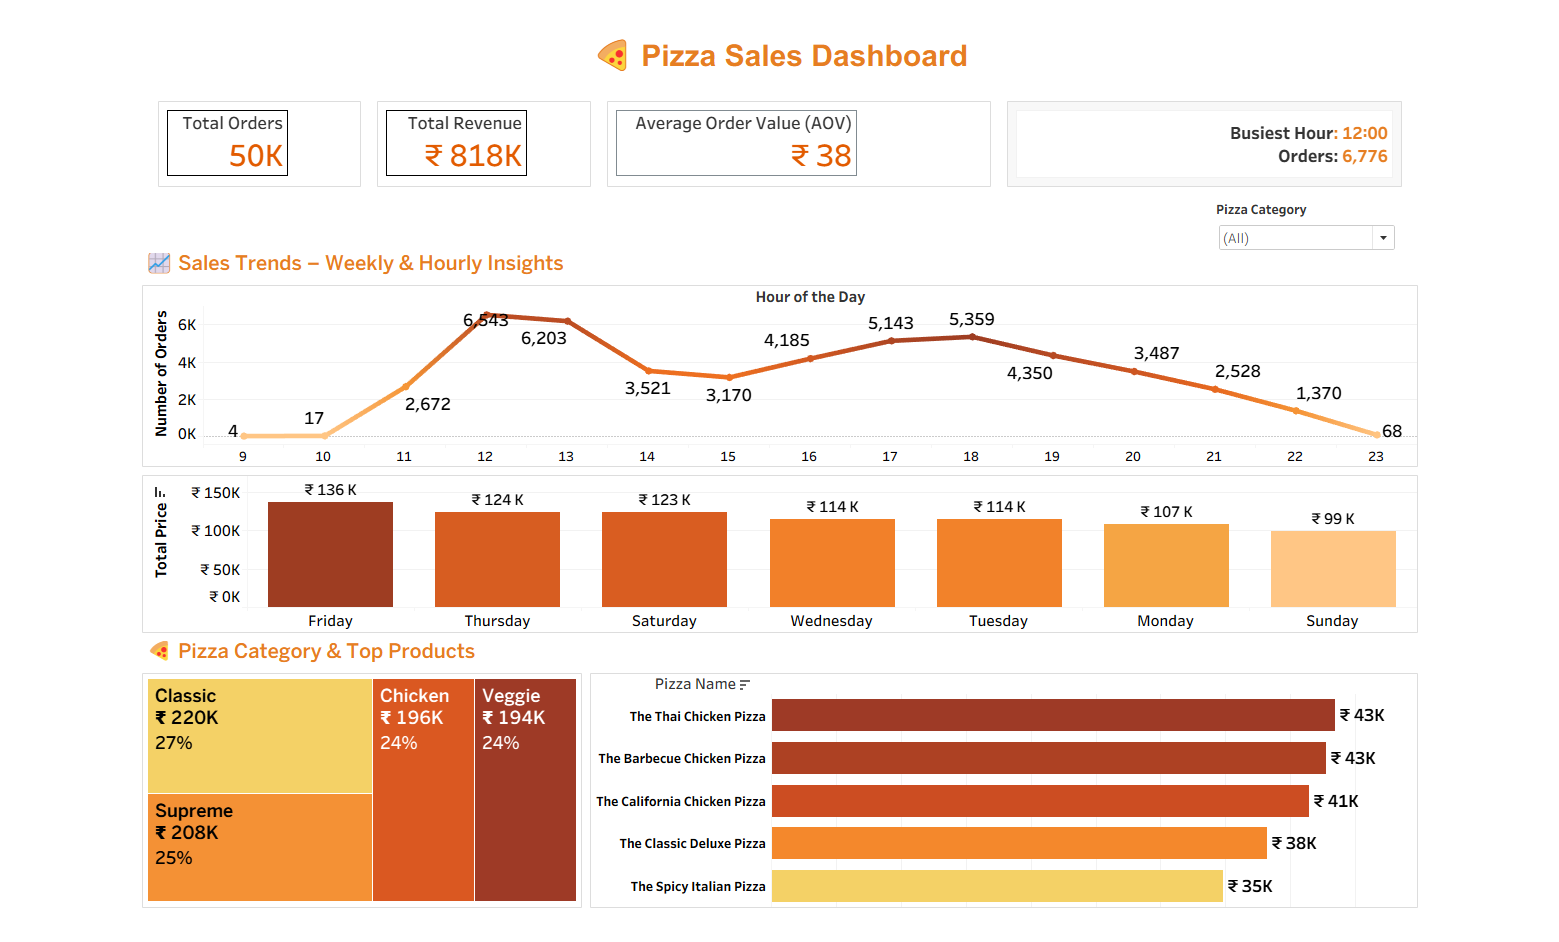

The page's visual inventory and layout, read from the dashboard file:
{"tool":"tableau","page":{"name":"Pizza Sales Dashboard","canvas":[1300,900],"ordinal":0},"visuals":[{"type":"title","box":[8,8,1284,53]},{"type":"worksheet","title":"KPI - Total Orders","mark":"Text","box":[20,73,219,101.9]},{"type":"worksheet","title":"KPI - Total Revenue","mark":"Text","box":[239,73,230,101.9]},{"type":"worksheet","title":"KPI - Average Order Value (AOV)","mark":"Automatic","box":[469,73,400,101.9]},{"type":"worksheet","title":"KPI - Busiest Hour","mark":"Automatic","box":[869,73,411,101.9]},{"type":"filter","title":"Sales by Pizza Category (Treemap) ","param":"[federated.1k2km3f16ukdji1dm53hj1wqhpzk].[none:pizza_category:nk]","box":[1086,180,182,53]},{"type":"text","box":[8,229.2,1284,32]},{"type":"worksheet","title":"Pizza Orders by Hour of the Day (24-Hour Format)","mark":"Line","rows":["order_id"],"cols":["order_hour"],"box":[8,261.2,1284,190]},{"type":"worksheet","title":"Revenue by Day","mark":"Bar","rows":["total_price"],"cols":["order_day"],"box":[8,451.2,1284,165.8]},{"type":"text","box":[8,617,1284,32]},{"type":"worksheet","title":"Sales by Pizza Category (Treemap) ","mark":"Automatic","box":[8,649,448,243]},{"type":"worksheet","title":"Top 5 Pizzas by Revenue","mark":"Automatic","rows":["pizza_name"],"cols":["total_price"],"box":[456,649,836,243]}]}

Visuals, with their boxes on the page's 1300x900 design canvas (x1, y1, x2, y2). These are canvas units, not pixel positions in the 1559x942 screenshot, which may show the page scaled, cropped or inside an application window:
title: <box>8,8,1292,61</box>
"KPI - Total Orders" worksheet (Text marks): <box>20,73,239,175</box>
"KPI - Total Revenue" worksheet (Text marks): <box>239,73,469,175</box>
"KPI - Average Order Value (AOV)" worksheet: <box>469,73,869,175</box>
"KPI - Busiest Hour" worksheet: <box>869,73,1280,175</box>
"Sales by Pizza Category (Treemap) " filter: <box>1086,180,1268,233</box>
text: <box>8,229,1292,261</box>
"Pizza Orders by Hour of the Day (24-Hour Format)" worksheet (Line marks): <box>8,261,1292,451</box>
"Revenue by Day" worksheet (Bar marks): <box>8,451,1292,617</box>
text: <box>8,617,1292,649</box>
"Sales by Pizza Category (Treemap) " worksheet: <box>8,649,456,892</box>
"Top 5 Pizzas by Revenue" worksheet: <box>456,649,1292,892</box>
